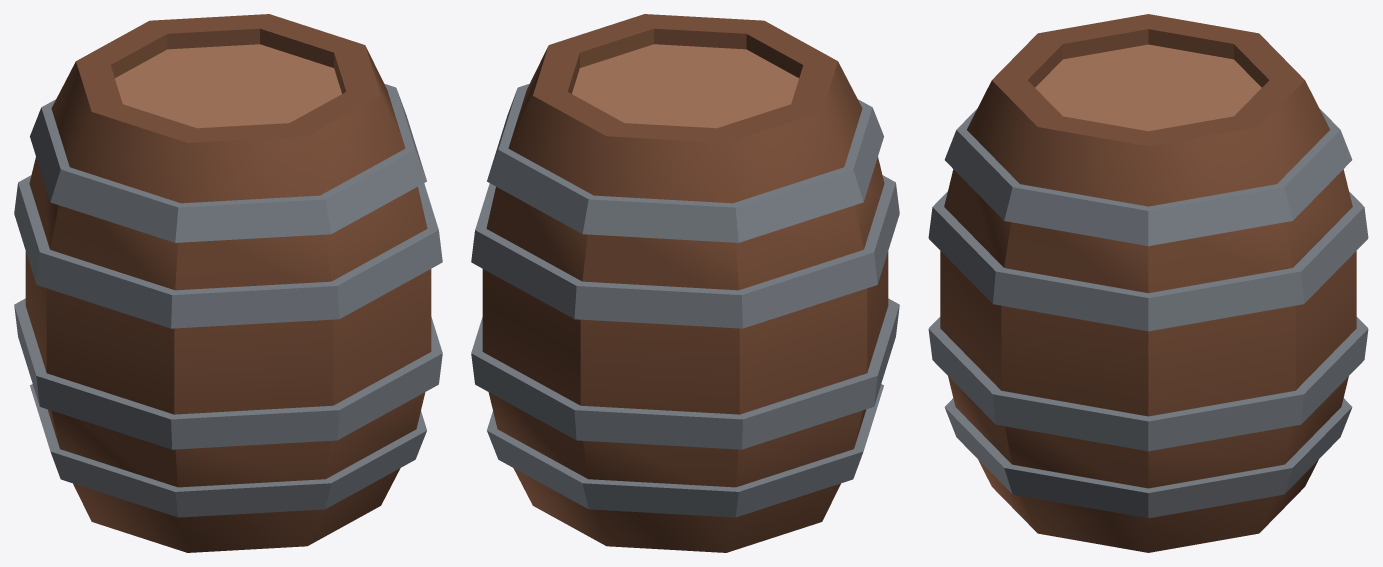
File: barril_pacote.glb
3 renders of one model, left to right at view 1: azimuth 30°, elevation 25°; view 2: azimuth 150°, elevation 25°; view 3: azimuth 270°, elevation 25°, orthographic.
Visible parts, largest first — view 1: barril_pacote; view 2: barril_pacote; view 3: barril_pacote.
Part boxes in pixels (x1=…): barril_pacote: x1=14, y1=14, x2=442, y2=552; barril_pacote: x1=471, y1=14, x2=899, y2=552; barril_pacote: x1=928, y1=14, x2=1368, y2=552.
Bounding box in the file's own units: 0.9253 × 0.9434 × 0.9253.
1 material, 1 textured.
